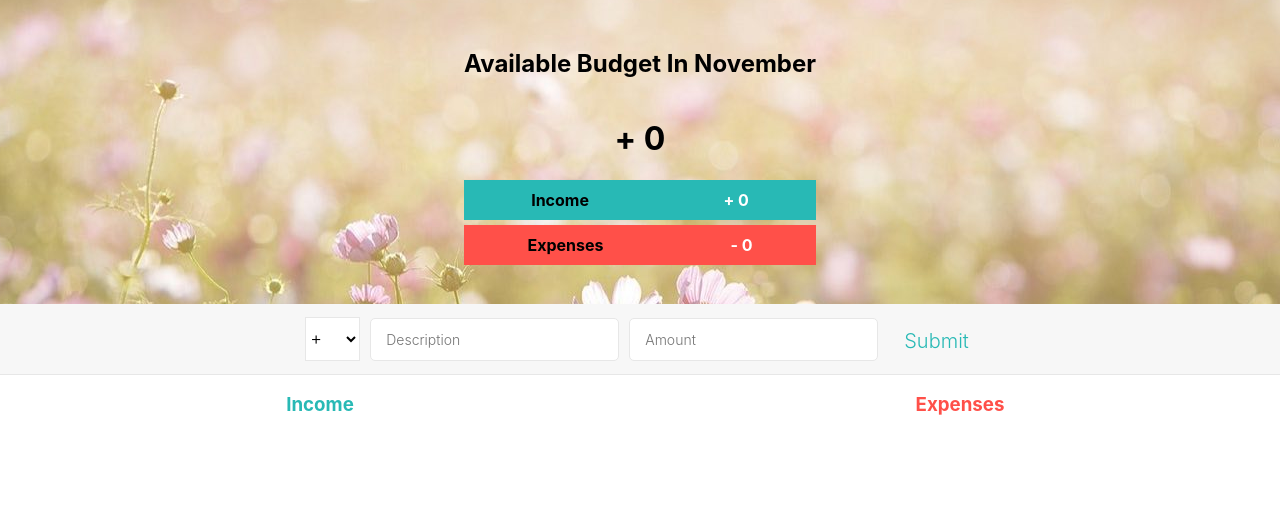
Test: App Component Integration › adds income and updates budget correctly
This screenshot has width=1280, height=505.
// Add income
Type "Salary" into the field with placeholder "Description".
click(495, 340); type("Salary")  # box [370,318,619,361]
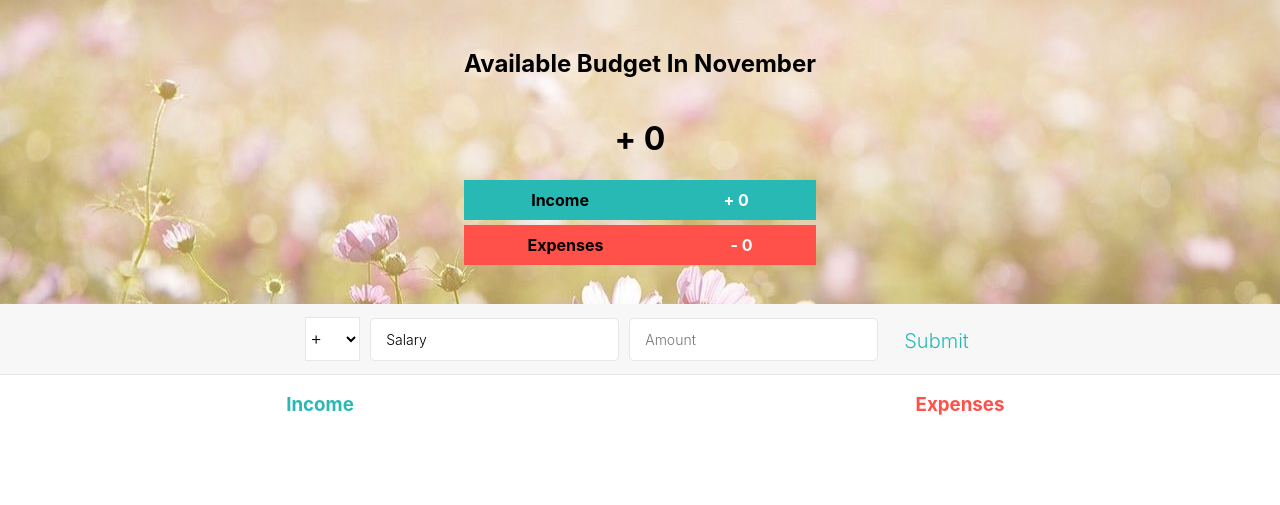
Type "5000" into the number field with placeholder "Amount".
click(754, 340); type("5000")  # box [629,318,878,361]
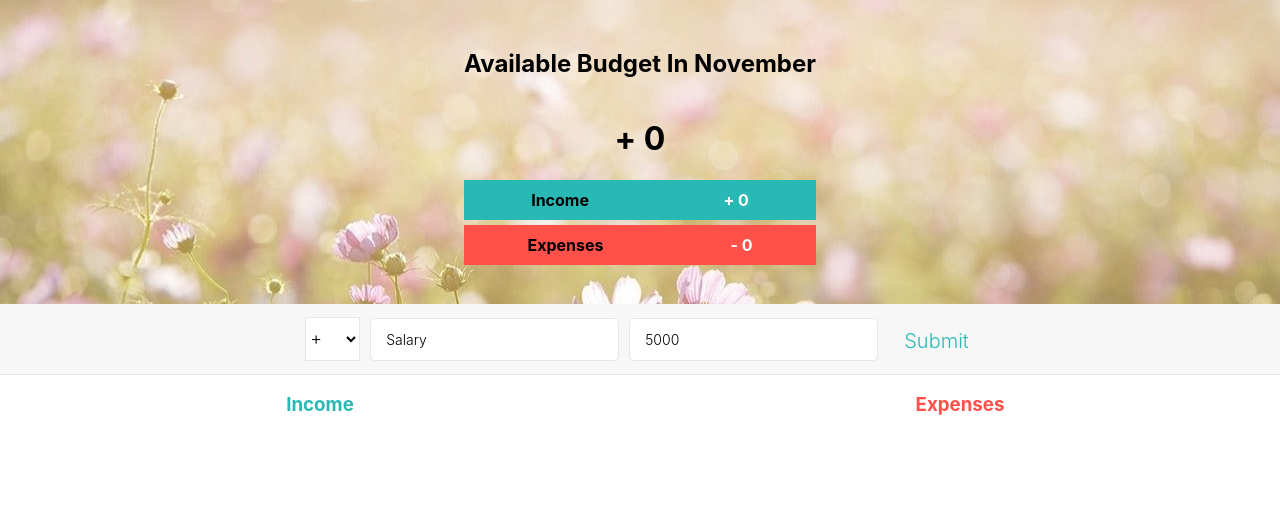
Click the button "Submit".
click(936, 341)  # box [898,329,975,353]
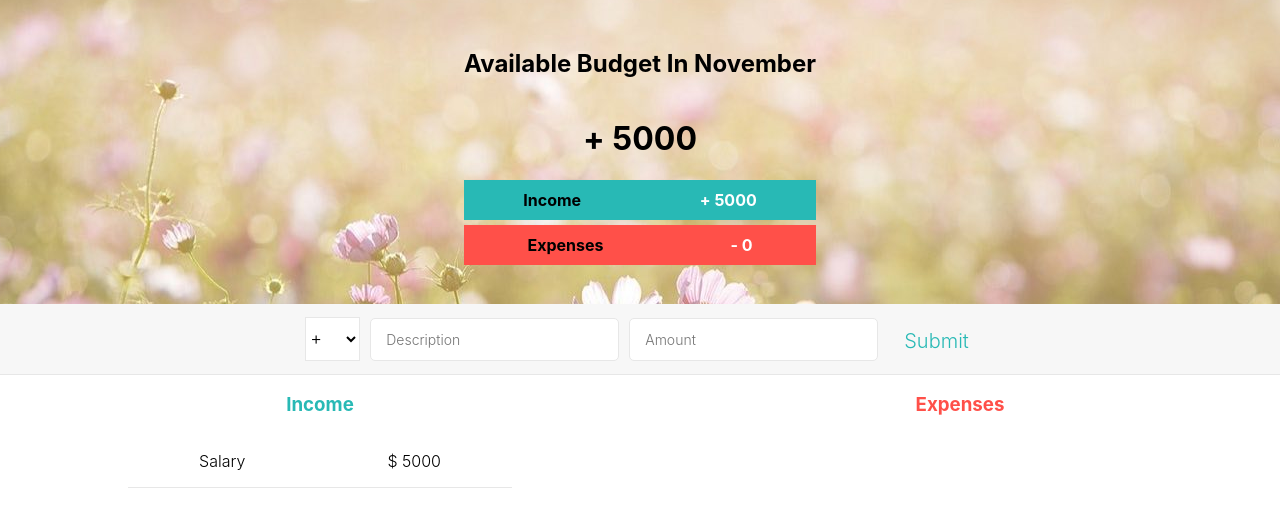
Now the 2nd heading "+ 5000" is shown, box [700,190,757,210]
Now the text "Salary" is shown, box [199,451,245,471]
Now the text "$ 5000" is shown, box [387,451,441,471]
